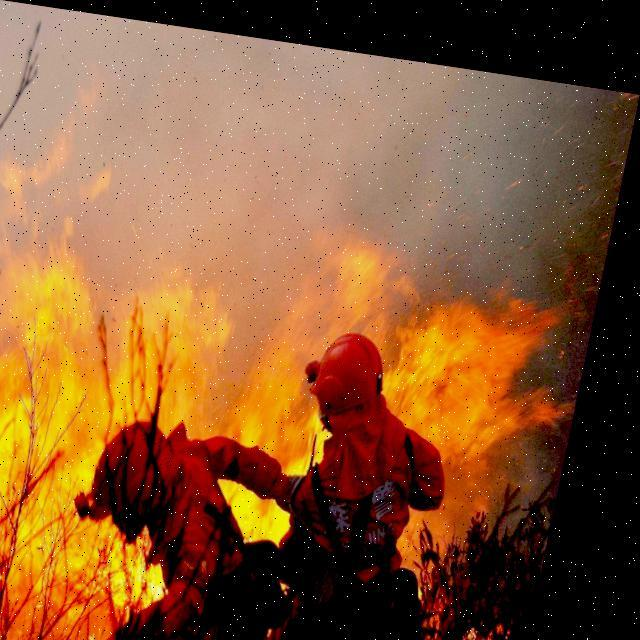Fire: (0, 128, 579, 639)
